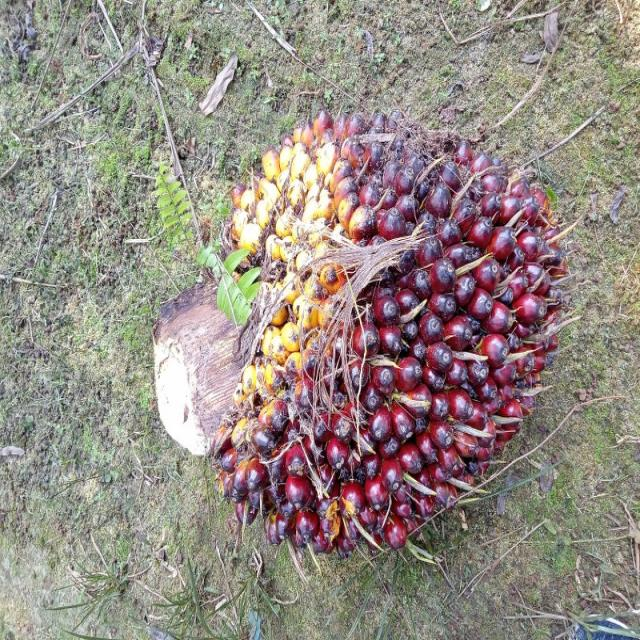fraksi 1: (132, 67, 614, 581)
